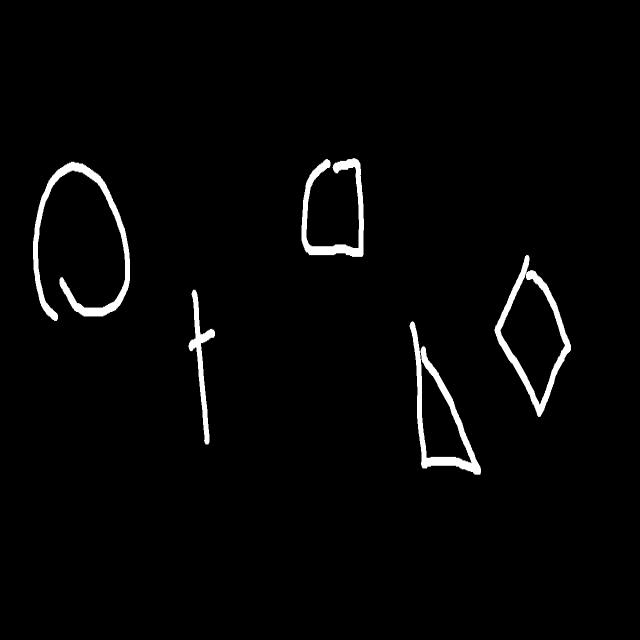circle: (33, 162, 130, 321)
cross: (188, 290, 215, 444)
diamond: (494, 255, 571, 416)
rectangle: (302, 158, 364, 256)
triangle: (409, 322, 481, 474)
